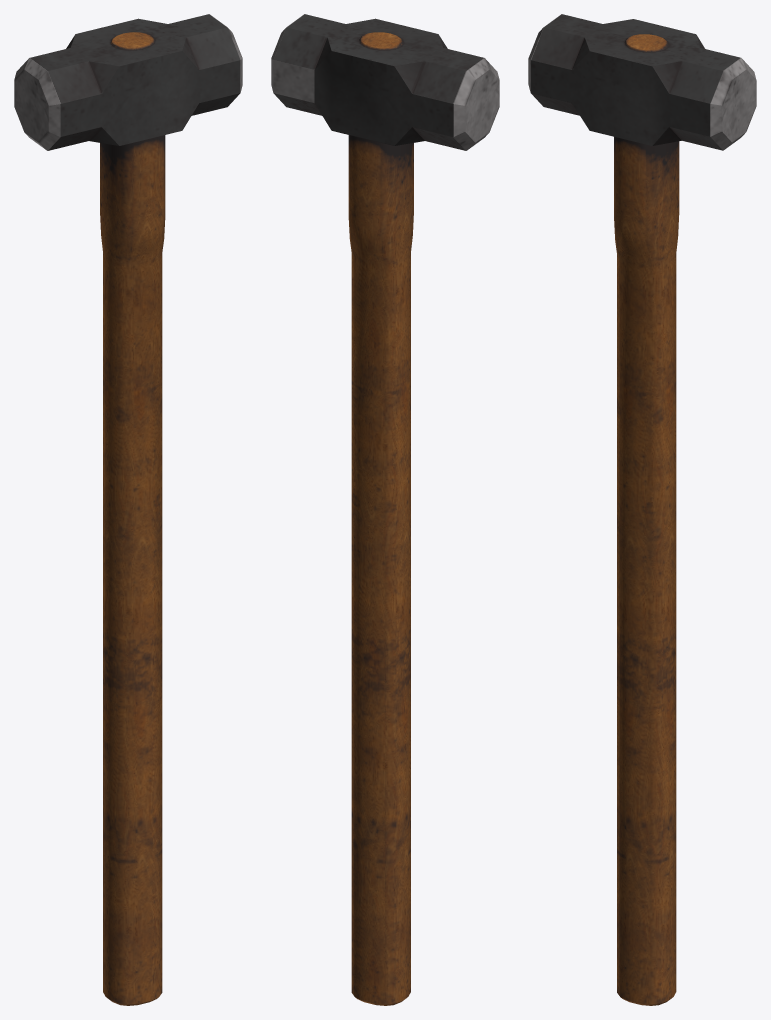
Rendered from Sledgehammer.fbx.
3 renders of one model, left to right at view 1: azimuth 30°, elevation 25°; view 2: azimuth 150°, elevation 25°; view 3: azimuth 330°, elevation 25°, orthographic.
Parts seen in each view (by area): view 1: Sledgehammer; view 2: Sledgehammer; view 3: Sledgehammer.
Boxes of the visible parts, left/top/right/bottom form: Sledgehammer: left=14, top=14, right=242, bottom=1005; Sledgehammer: left=271, top=14, right=499, bottom=1005; Sledgehammer: left=528, top=14, right=756, bottom=1005.
Bounding box in the file's own units: 15.02 × 70.66 × 5.9.
